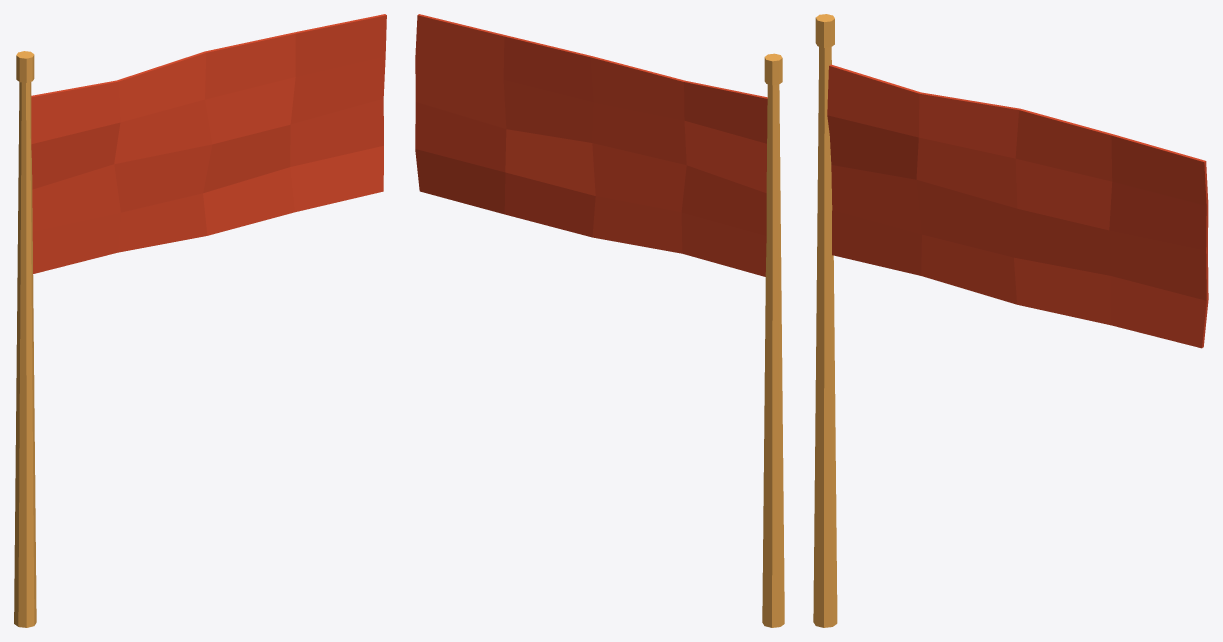
The model's file is flag.fbx.
The picture shows the model from 3 angles, left to right: view 1: azimuth 30°, elevation 25°; view 2: azimuth 150°, elevation 25°; view 3: azimuth 330°, elevation 25°; orthographic projection. The views are drawn at different scales.
Visible parts, largest first — view 1: flama; view 2: flama; view 3: flama.
Part boxes in pixels (bbox=[...]): flama: bbox=[14, 14, 386, 627]; flama: bbox=[415, 14, 784, 627]; flama: bbox=[813, 14, 1208, 627].
Size of the model in its own units: 2.1 by 3.09 by 0.1037.
